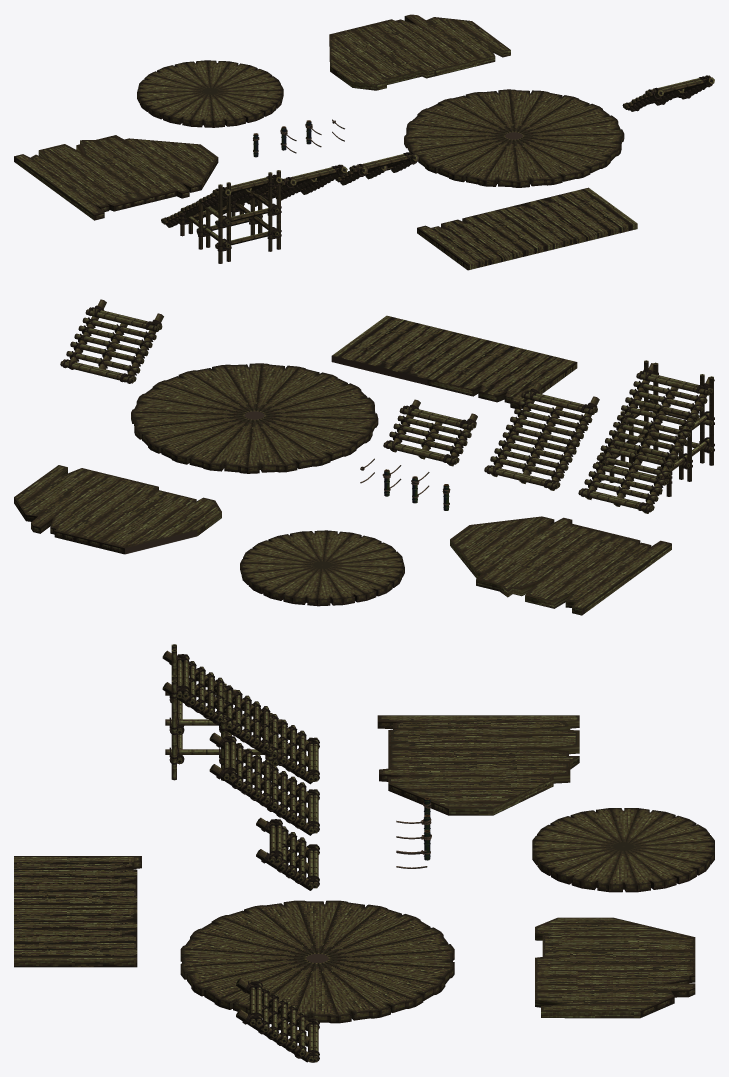
Rendered from EnvMdrMD_Island_A_Fence_A_End_A.FBX.
3 views of the same model, one above another, from view 1: azimuth 30°, elevation 25°; view 2: azimuth 150°, elevation 25°; view 3: azimuth 270°, elevation 25° (orthographic). The views are drawn at different scales.
Visible parts, largest first — view 1: EnvMdrMD_Island_A_Scaffold_A, EnvMdrMD_Island_A_Scaffold_D, EnvMdrMD_Island_A_Scaffold_E, EnvMdrMD_Island_A_Scaffold_C, EnvMdrMD_Island_A_Scaffold_B, EnvMdrMD_Island_A_Stairs_L, EnvMdrMD_Island_A_Stairs_M_A, EnvMdrMD_Island_A_Stairs_M, EnvMdrMD_Island_A_Stairs_S; view 2: EnvMdrMD_Island_A_Scaffold_A, EnvMdrMD_Island_A_Scaffold_D, EnvMdrMD_Island_A_Scaffold_C, EnvMdrMD_Island_A_Scaffold_E, EnvMdrMD_Island_A_Stairs_L, EnvMdrMD_Island_A_Scaffold_B, EnvMdrMD_Island_A_Stairs_M, EnvMdrMD_Island_A_Stairs_M_A, EnvMdrMD_Island_A_Stairs_S; view 3: EnvMdrMD_Island_A_Scaffold_A, EnvMdrMD_Island_A_Scaffold_D, EnvMdrMD_Island_A_Scaffold_C, EnvMdrMD_Island_A_Scaffold_E, EnvMdrMD_Island_A_Scaffold_B, EnvMdrMD_Island_A_Stairs_L, EnvMdrMD_Island_A_Stairs_M, EnvMdrMD_Island_A_Stairs_M_A, EnvMdrMD_Island_A_Stairs_S.
Part boxes in pixels (x1,y1,x2,y2): EnvMdrMD_Island_A_Scaffold_A: (404, 89, 624, 187); EnvMdrMD_Island_A_Scaffold_D: (14, 135, 218, 220); EnvMdrMD_Island_A_Scaffold_E: (417, 187, 637, 270); EnvMdrMD_Island_A_Scaffold_C: (329, 14, 510, 90); EnvMdrMD_Island_A_Scaffold_B: (137, 60, 283, 127); EnvMdrMD_Island_A_Stairs_L: (161, 170, 282, 263); EnvMdrMD_Island_A_Stairs_M_A: (622, 75, 714, 111); EnvMdrMD_Island_A_Stairs_M: (246, 164, 347, 206); EnvMdrMD_Island_A_Stairs_S: (335, 151, 418, 185); EnvMdrMD_Island_A_Scaffold_A: (131, 363, 378, 473); EnvMdrMD_Island_A_Scaffold_D: (450, 516, 671, 615); EnvMdrMD_Island_A_Scaffold_C: (14, 465, 221, 554); EnvMdrMD_Island_A_Scaffold_E: (331, 315, 577, 409); EnvMdrMD_Island_A_Stairs_L: (578, 360, 714, 513); EnvMdrMD_Island_A_Scaffold_B: (240, 530, 404, 606); EnvMdrMD_Island_A_Stairs_M: (484, 382, 599, 490); EnvMdrMD_Island_A_Stairs_M_A: (60, 299, 163, 383); EnvMdrMD_Island_A_Stairs_S: (383, 399, 477, 466); EnvMdrMD_Island_A_Scaffold_A: (180, 900, 454, 1023); EnvMdrMD_Island_A_Scaffold_D: (377, 715, 579, 815); EnvMdrMD_Island_A_Scaffold_C: (535, 917, 695, 1018); EnvMdrMD_Island_A_Scaffold_E: (14, 856, 141, 967); EnvMdrMD_Island_A_Scaffold_B: (532, 808, 714, 892); EnvMdrMD_Island_A_Stairs_L: (162, 644, 319, 784); EnvMdrMD_Island_A_Stairs_M: (209, 732, 319, 835); EnvMdrMD_Island_A_Stairs_M_A: (236, 978, 319, 1062); EnvMdrMD_Island_A_Stairs_S: (256, 817, 319, 890).
Size of the model in its own units: 2679 by 375 by 2273.
